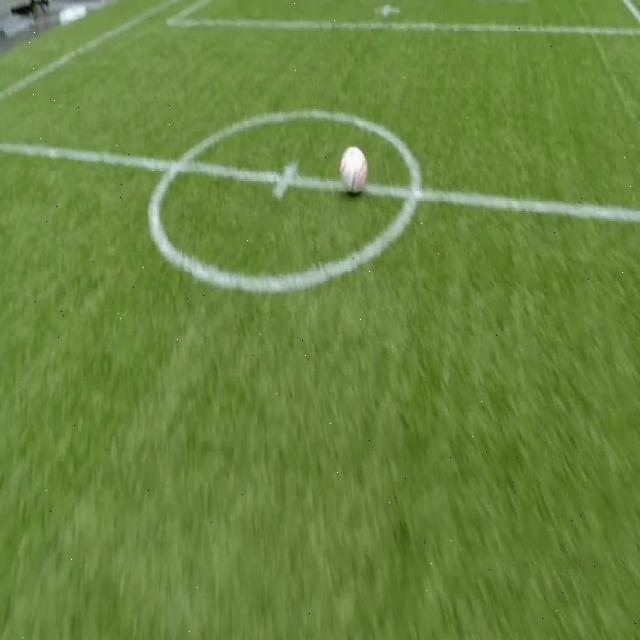ball: (341, 146, 368, 192)
